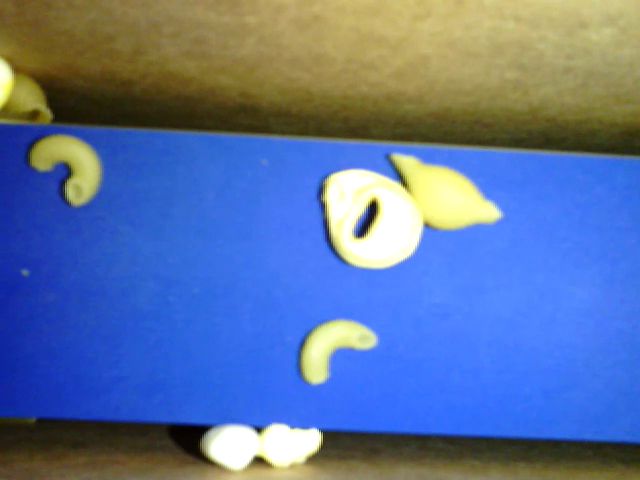elbow: (28, 132, 101, 206), (299, 317, 377, 386)
shell: (392, 154, 502, 231), (2, 74, 54, 127)
tortellini: (320, 169, 424, 271)
